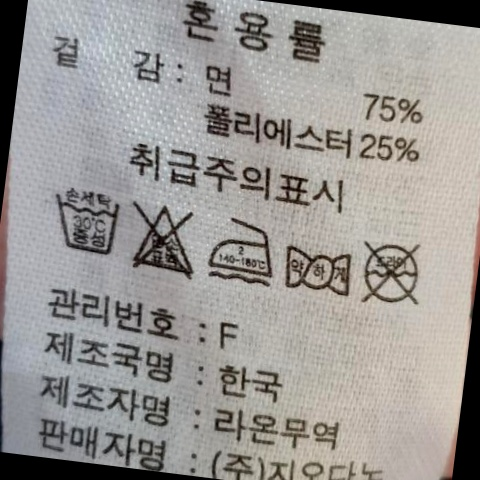DN_dry_clean: (355, 232, 431, 313)
hand_wash: (45, 186, 127, 261)
iron_medium: (207, 214, 280, 284)
non_chlorine_bleach: (125, 196, 210, 284)
wring: (279, 238, 358, 302)
